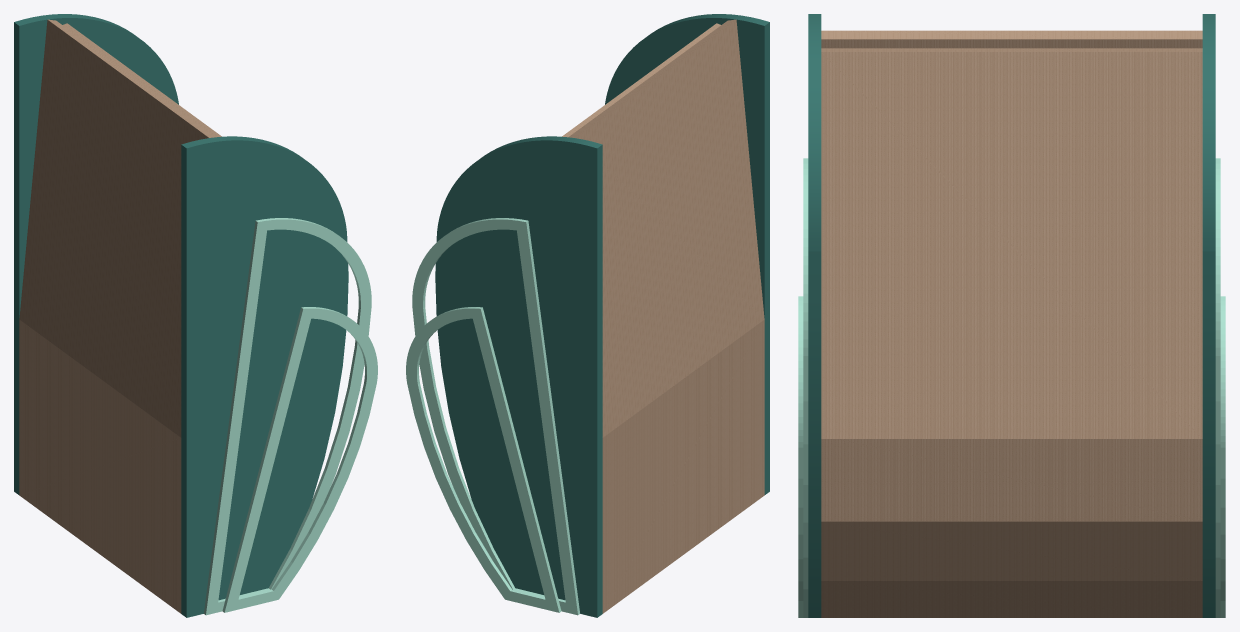
The model's file is kioskClosed.glb.
3 renders of one model, left to right at view 1: azimuth 30°, elevation 25°; view 2: azimuth 150°, elevation 25°; view 3: azimuth 270°, elevation 25°, orthographic. The views are drawn at different scales.
Visible parts, largest first — view 1: kıosk.001, kıosk.005, kıosk.004; view 2: kıosk.001, kıosk.005, kıosk.004; view 3: kıosk.001, kıosk.005, kıosk.004.
Part boxes in pixels (bbox=[...]): kıosk.001: bbox=[19, 19, 221, 613]; kıosk.005: bbox=[14, 14, 348, 617]; kıosk.004: bbox=[203, 218, 377, 615]; kıosk.001: bbox=[562, 19, 764, 613]; kıosk.005: bbox=[435, 14, 769, 617]; kıosk.004: bbox=[406, 218, 580, 615]; kıosk.001: bbox=[821, 30, 1202, 617]; kıosk.005: bbox=[808, 14, 1215, 617]; kıosk.004: bbox=[798, 158, 1225, 617].
Bounding box in the file's own units: 2.94 × 7.06 × 4.94.
3 materials, 1 textured.
